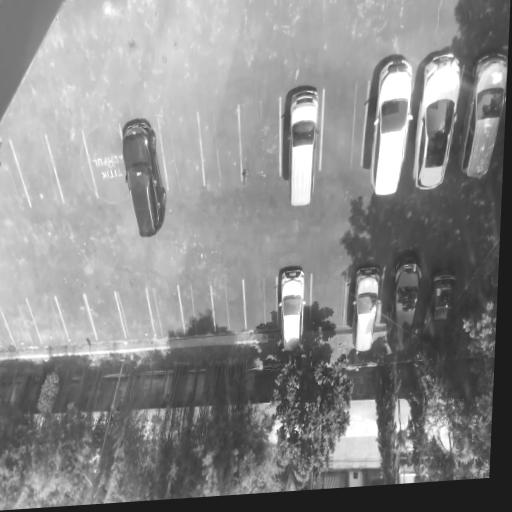Car: (365, 54, 418, 200), (412, 54, 466, 194), (455, 50, 508, 182), (116, 117, 170, 243), (414, 260, 464, 351), (385, 251, 428, 354), (286, 84, 320, 212), (348, 265, 385, 354), (279, 266, 306, 357)
Space Available: (320, 84, 370, 170), (6, 135, 63, 210), (44, 131, 97, 205), (197, 104, 242, 188), (157, 109, 204, 189), (238, 99, 280, 183), (83, 127, 129, 199), (310, 270, 348, 334), (53, 292, 98, 345), (0, 136, 30, 211), (177, 280, 217, 336), (26, 295, 68, 348), (85, 288, 126, 342), (242, 274, 278, 334), (0, 297, 41, 349), (114, 286, 154, 339), (211, 280, 247, 335), (146, 284, 183, 337), (0, 311, 14, 350)
